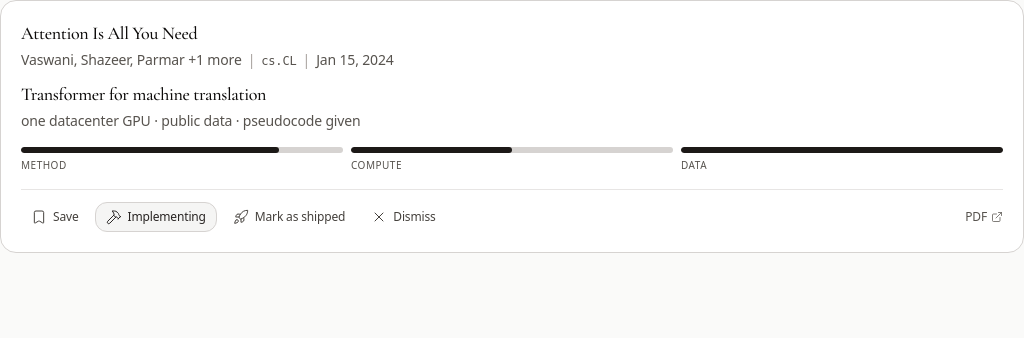
Test: FeedCard › asks for the repo url and ships with it trimmed
Click the button "Mark as shipped" at (289, 216), box [223, 202, 355, 230]
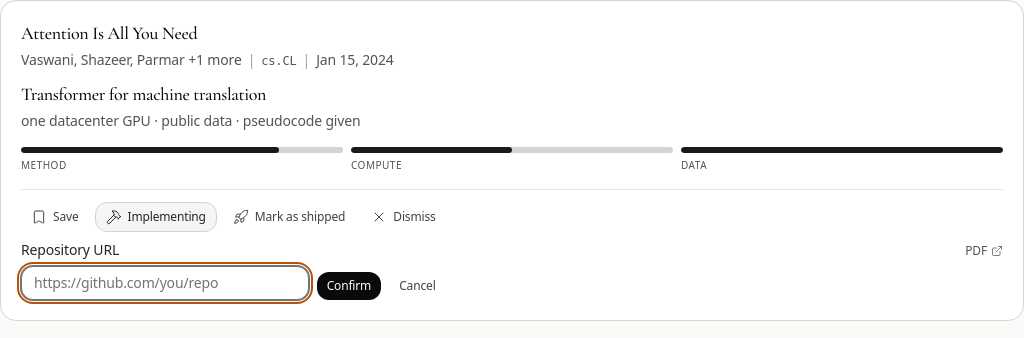
Type "  https://github.com/x/y  " into the field labelled "Repository URL" at (165, 282), box [21, 266, 309, 300]
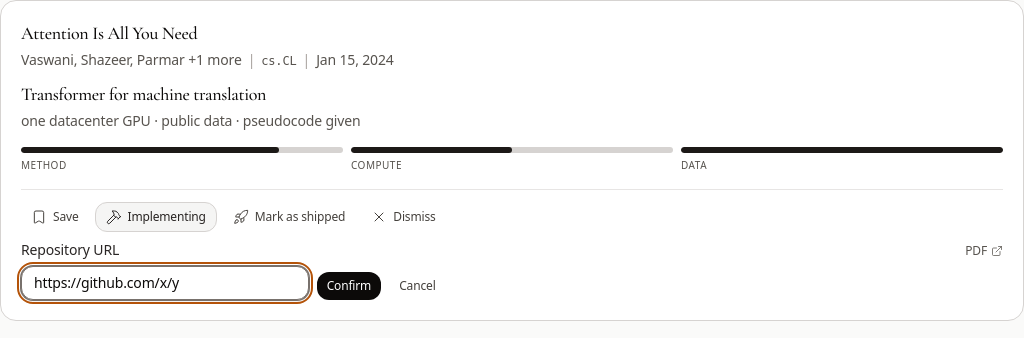
Click the button "Confirm" at (349, 286), box [317, 272, 381, 300]
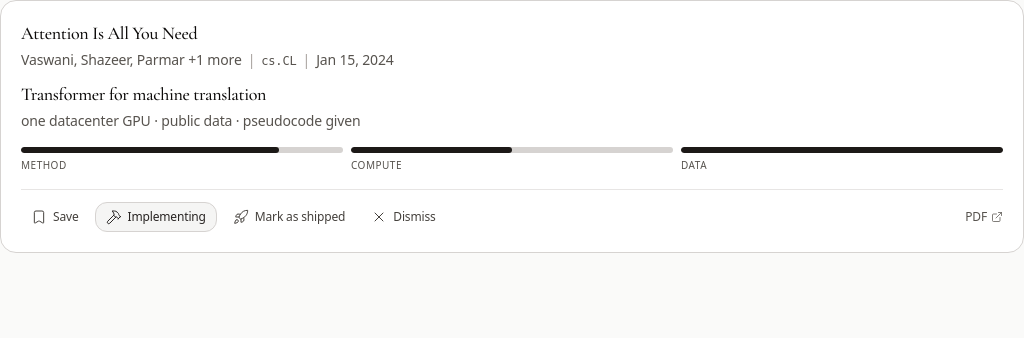
Check: the label labelled "Repository URL" is gone
